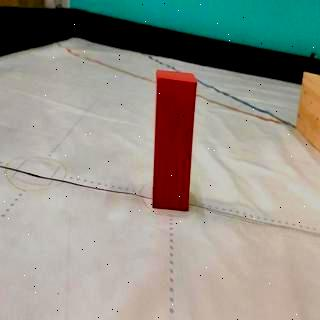redbox: (154, 68, 196, 212)
